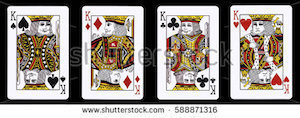KingOfClubs: (154, 4, 221, 101)
KingOfDiamonds: (78, 3, 147, 102)
KingOfHearts: (227, 4, 298, 103)
KingOfSpades: (6, 6, 72, 101)
